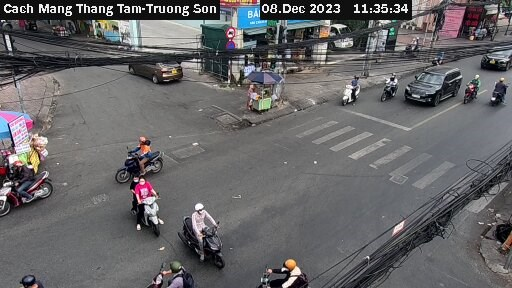car: (404, 61, 463, 107), (127, 50, 193, 87), (481, 41, 512, 72)
motorbike: (3, 159, 59, 221), (176, 207, 232, 264), (109, 136, 176, 182), (118, 178, 172, 233), (257, 251, 308, 288), (136, 252, 186, 288), (336, 75, 373, 111), (375, 70, 404, 100), (485, 73, 508, 105), (461, 71, 483, 104)
